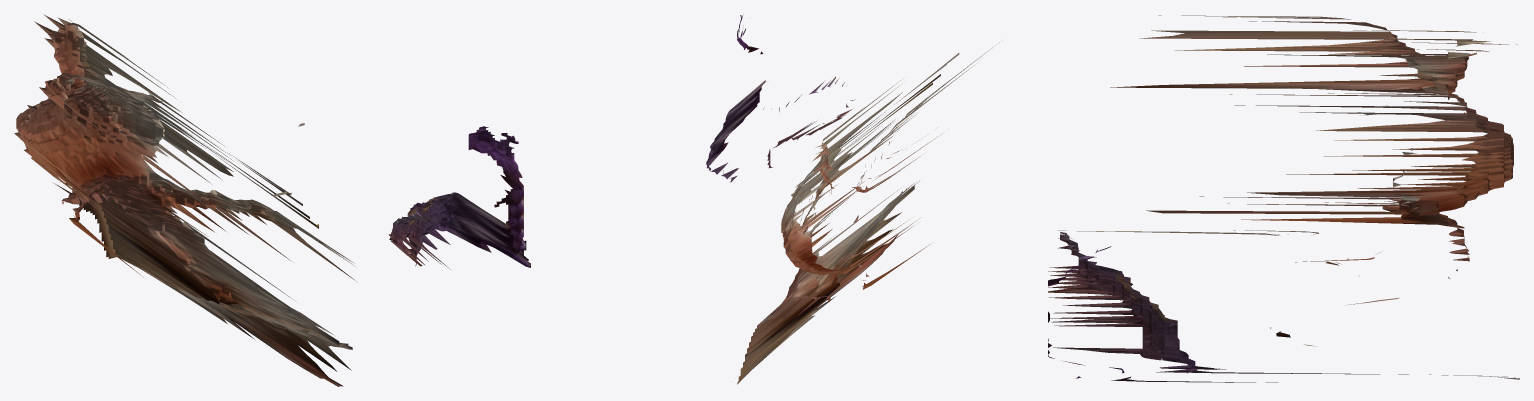
Rendered from frame_00310.glb.
3 renders of one model, left to right at view 1: azimuth 30°, elevation 25°; view 2: azimuth 150°, elevation 25°; view 3: azimuth 270°, elevation 25°, orthographic. The views are drawn at different scales.
Parts seen in each view (by area): view 1: geometry_0; view 2: geometry_0; view 3: geometry_0.
Part boxes in pixels (x1,y1,x2,y2): geometry_0: (14, 14, 530, 386); geometry_0: (706, 15, 999, 384); geometry_0: (1048, 15, 1519, 382).
Bounding box in the file's own units: 0.1417 × 0.1144 × 0.16.
Materials: 1 (1 with a texture image).
